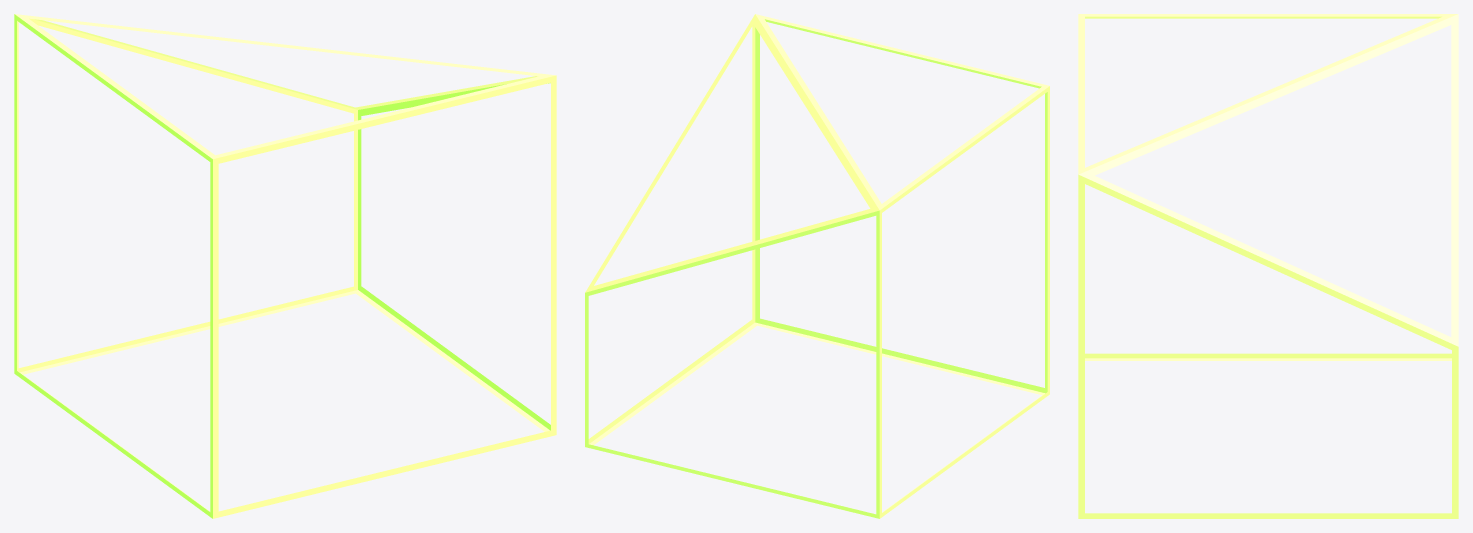
The model's file is r1c3_highlight_green.glb.
The picture shows the model from 3 angles, left to right: view 1: azimuth 30°, elevation 25°; view 2: azimuth 150°, elevation 25°; view 3: azimuth 270°, elevation 25°; orthographic projection. The views are drawn at different scales.
Parts seen in each view (by area): view 1: r1c3_highlight_green; view 2: r1c3_highlight_green; view 3: r1c3_highlight_green.
Part boxes in pixels (<box>): r1c3_highlight_green: <box>14,14,556,518</box>; r1c3_highlight_green: <box>585,14,1049,518</box>; r1c3_highlight_green: <box>1078,14,1458,518</box>.
Size of the model in its own units: 2 by 2 by 2.
